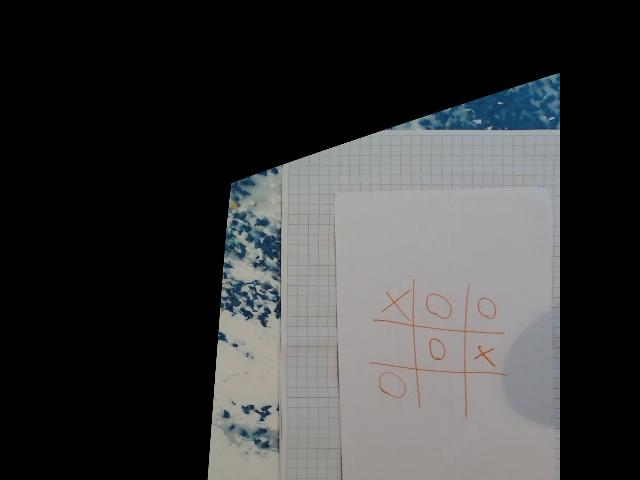O: (372, 369, 408, 400), (421, 334, 448, 362), (427, 290, 452, 320), (472, 294, 500, 318)
X: (381, 286, 410, 318), (472, 343, 497, 367)
grid: (370, 276, 503, 412)
